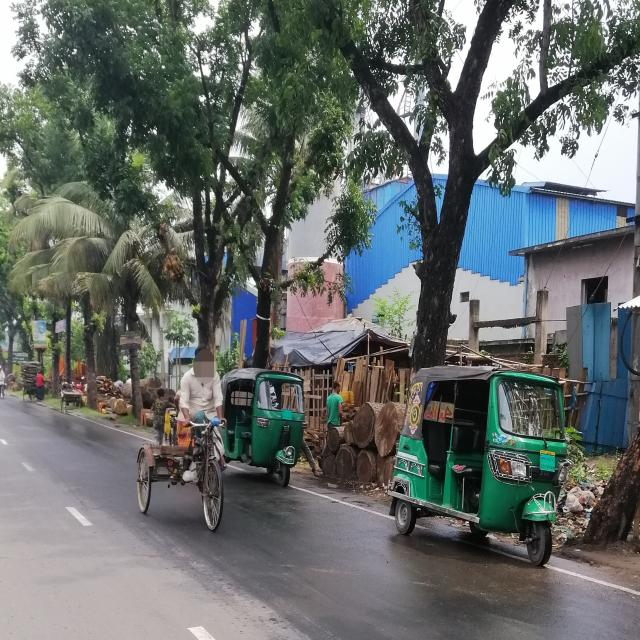Van: (131, 406, 237, 551)
